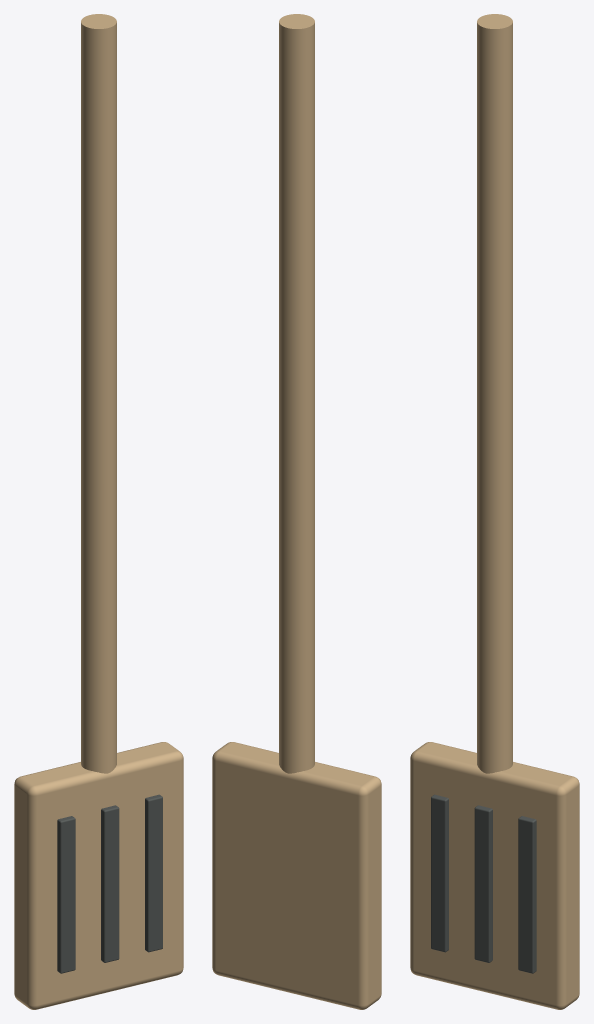
The model's file is bookbinding-and-paper-mill-beater-paddle-42b88066__30549.glb.
The picture shows the model from 3 angles, left to right: view 1: azimuth 30°, elevation 25°; view 2: azimuth 150°, elevation 25°; view 3: azimuth 330°, elevation 25°; orthographic projection.
Visible parts, largest first — view 1: beater-paddle; view 2: beater-paddle; view 3: beater-paddle.
Part boxes in pixels (x1,y1,x2,y2): beater-paddle: [14, 14, 183, 1009]; beater-paddle: [212, 14, 381, 1009]; beater-paddle: [410, 14, 579, 1009].
Bounding box in the file's own units: 0.16 × 0.95 × 0.041.
